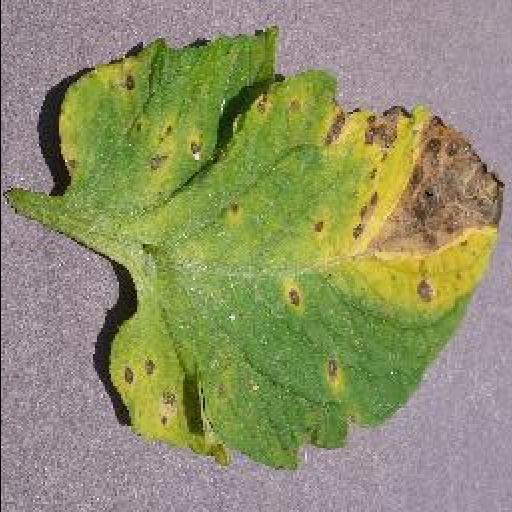disease_tomato: (55, 30, 501, 474)
